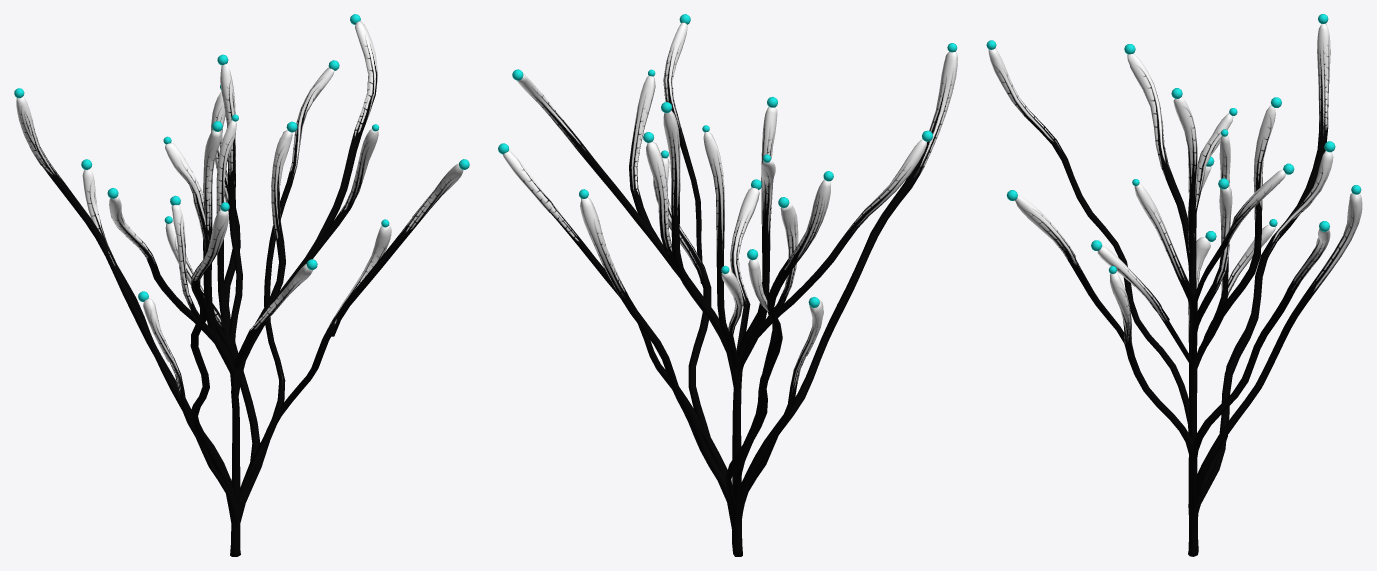
The model's file is fractalNEW.glb.
3 views of the same model, side by side, from view 1: azimuth 30°, elevation 25°; view 2: azimuth 150°, elevation 25°; view 3: azimuth 270°, elevation 25° (orthographic). The views are drawn at different scales.
Parts seen in each view (by area): view 1: NeuralFractal, Spheres; view 2: NeuralFractal, Spheres; view 3: NeuralFractal, Spheres.
Boxes of the visible parts, x1,y1,x2,y2 form: NeuralFractal: [16, 21, 463, 556]; Spheres: [14, 14, 469, 301]; NeuralFractal: [503, 22, 957, 556]; Spheres: [498, 14, 957, 307]; NeuralFractal: [988, 23, 1362, 556]; Spheres: [986, 14, 1361, 273].
Bounding box in the file's own units: 0.7466 × 1 × 0.722.
2 materials, 1 textured.
